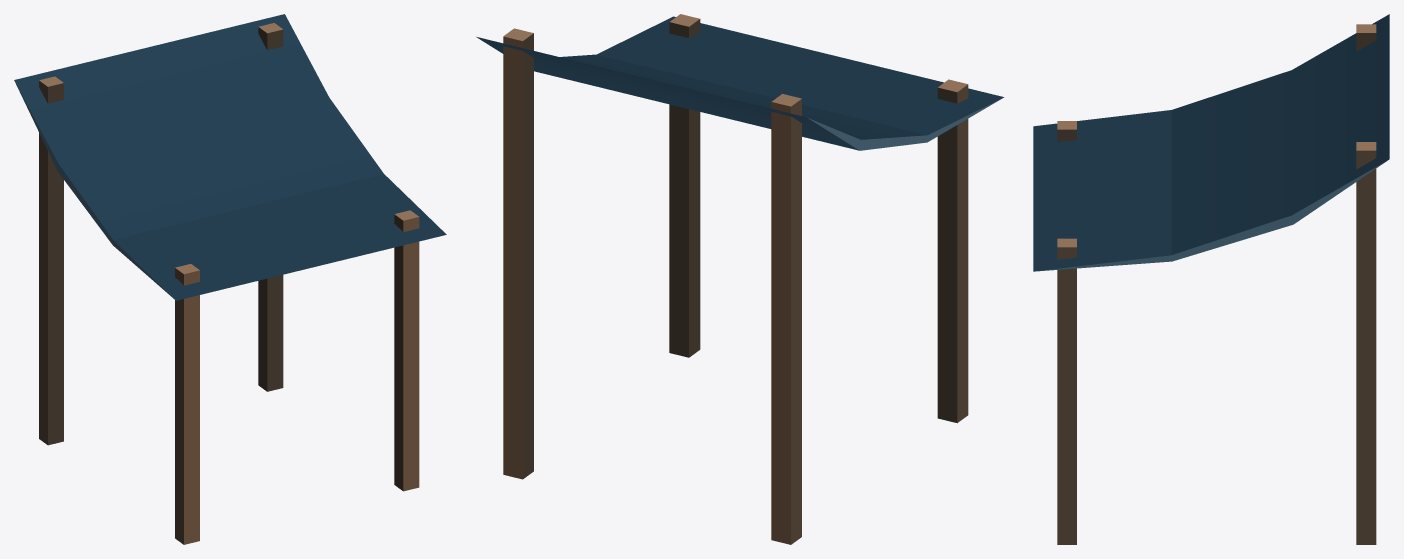
The model's file is TB_D_Prop_StoreTent_A.FBX.
3 renders of one model, left to right at view 1: azimuth 30°, elevation 25°; view 2: azimuth 150°, elevation 25°; view 3: azimuth 270°, elevation 25°, orthographic. The views are drawn at different scales.
Parts seen in each view (by area): view 1: TB_D_Prop_StoreTent_A; view 2: TB_D_Prop_StoreTent_A; view 3: TB_D_Prop_StoreTent_A.
Part boxes in pixels (bbox=[...]): TB_D_Prop_StoreTent_A: bbox=[14, 14, 446, 544]; TB_D_Prop_StoreTent_A: bbox=[476, 14, 1004, 544]; TB_D_Prop_StoreTent_A: bbox=[1033, 14, 1389, 544].
Bounding box in the file's own units: 2.33 × 2.95 × 2.41.
